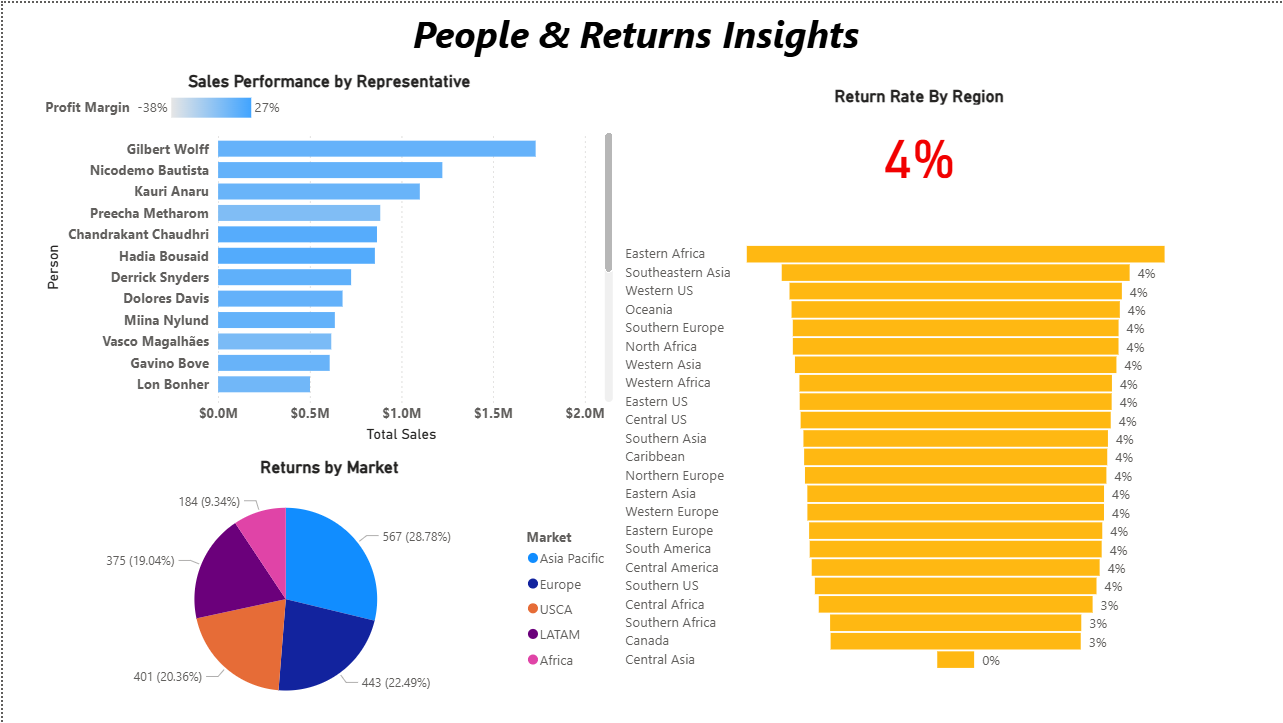

The dashboard page shown, as its layout file describes it:
{"tool":"powerbi","page":{"name":"People & Returns Insights","canvas":[1280,720],"ordinal":2},"visuals":[{"type":"barChart","title":"Sales Performance by Representative","fields":{"Category":["People.Person"],"Y":["Orders.Total Sales"]},"box":[37.5,67.5,577.5,376.2],"z":0},{"type":"textbox","box":[405,0,470,67.5],"z":1000},{"type":"pieChart","title":"Returns by Market","fields":{"Category":["Orders.Market"],"Y":["Returns.Returned"]},"box":[38,454,578,266],"z":2000},{"type":"card","title":"Return Rate By Region","fields":{"Values":["Returns.Return Rate %"]},"box":[815.7,82.9,200,114.3],"z":3000},{"type":"funnel","title":"Return Rate  by Region","fields":{"Y":["Returns.Return Rate %"],"Category":["Orders.Region"]},"box":[617.5,236.2,576.2,435],"z":4000}]}

Visuals, with their boxes in screenshot pixels (x1, y1, x2, y2), scaled from the page's 1280x720 canvas onto the 1283x723 screenshot:
"Sales Performance by Representative" barChart: <region>38, 68, 616, 446</region>
textbox: <region>406, 0, 877, 68</region>
"Returns by Market" pieChart: <region>38, 456, 617, 722</region>
"Return Rate By Region" card: <region>818, 83, 1018, 198</region>
"Return Rate  by Region" funnel: <region>619, 237, 1196, 674</region>
